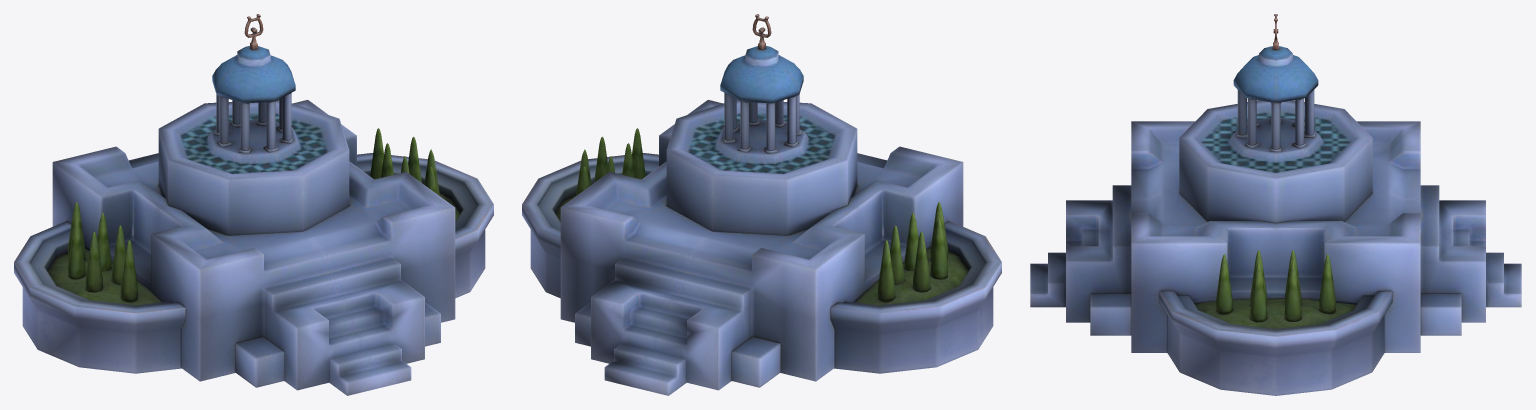
Rendered from Oracle.glb.
3 renders of one model, left to right at view 1: azimuth 30°, elevation 25°; view 2: azimuth 150°, elevation 25°; view 3: azimuth 270°, elevation 25°, orthographic.
Visible parts, largest first — view 1: oracle_low; view 2: oracle_low; view 3: oracle_low.
Part boxes in pixels (<box>): oracle_low: <box>14,14,493,395</box>; oracle_low: <box>522,14,1001,395</box>; oracle_low: <box>1030,14,1521,395</box>.
Size of the model in its own units: 36.71 by 22.08 by 35.63.
1 material, 1 textured.
